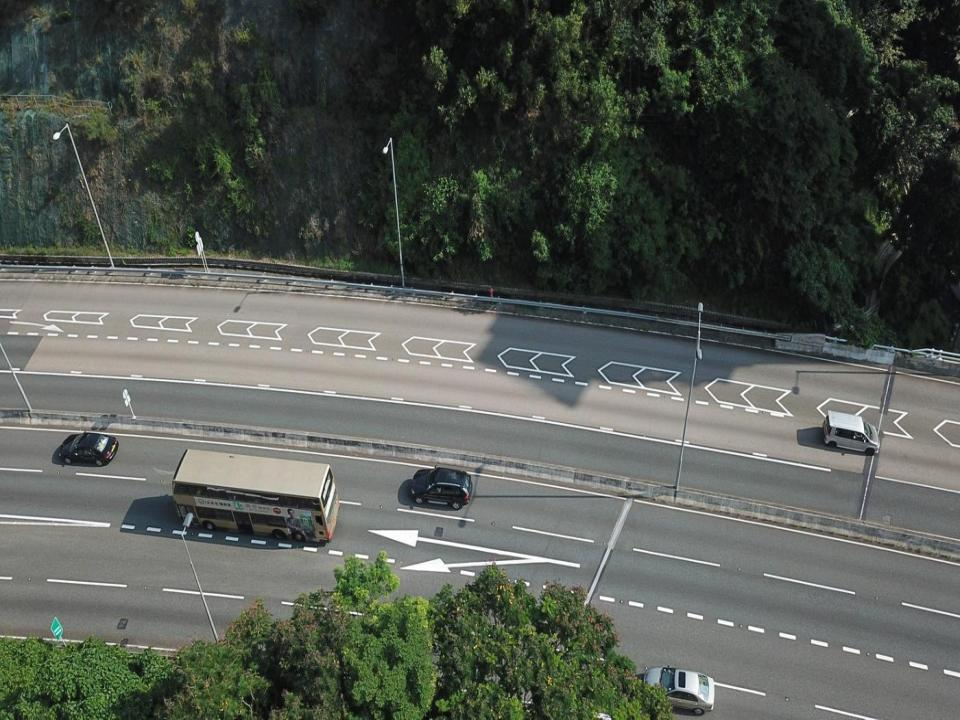bus: (172, 448, 340, 544)
car: (643, 662, 715, 716), (411, 465, 473, 510), (822, 409, 880, 457), (58, 432, 119, 466)
